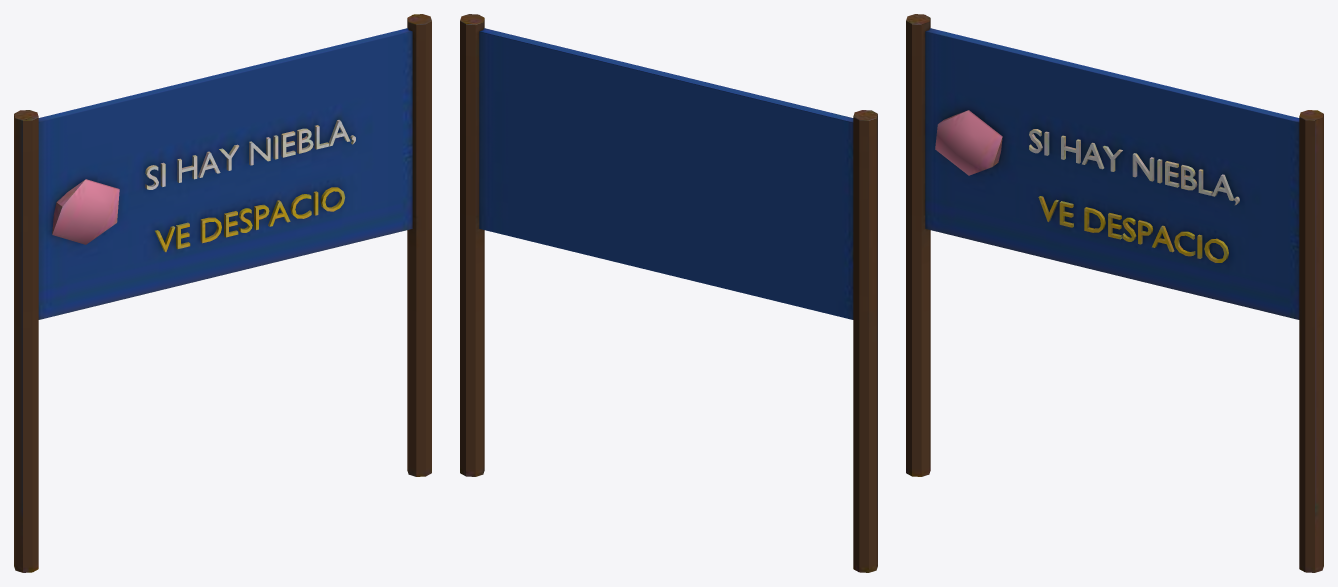
Rendered from cartel_me.glb.
3 renders of one model, left to right at view 1: azimuth 30°, elevation 25°; view 2: azimuth 150°, elevation 25°; view 3: azimuth 330°, elevation 25°, orthographic.
Parts seen in each view (by area): view 1: cartel_me; view 2: cartel_me; view 3: cartel_me.
Part boxes in pixels (<box>): cartel_me: <box>14,14,431,572</box>; cartel_me: <box>460,14,877,572</box>; cartel_me: <box>906,14,1323,572</box>.
Bounding box in the file's own units: 2.64 × 2.75 × 0.1881.
1 material, 1 textured.
